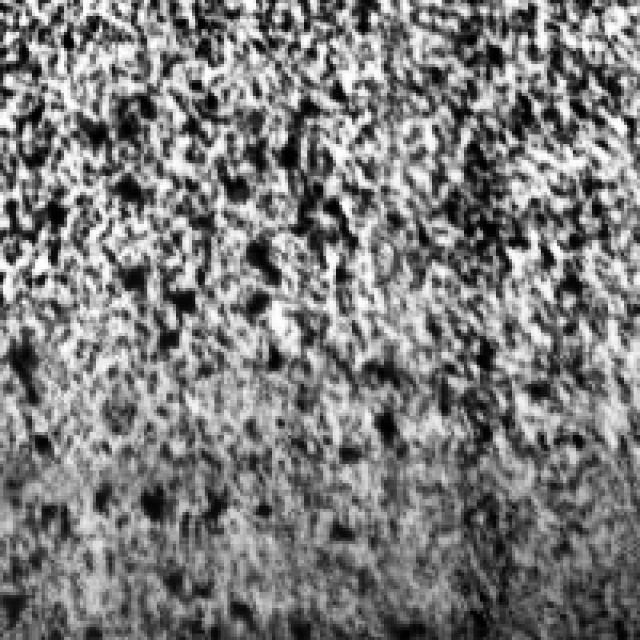Rolled_in_Scale: (39, 19, 630, 637)
